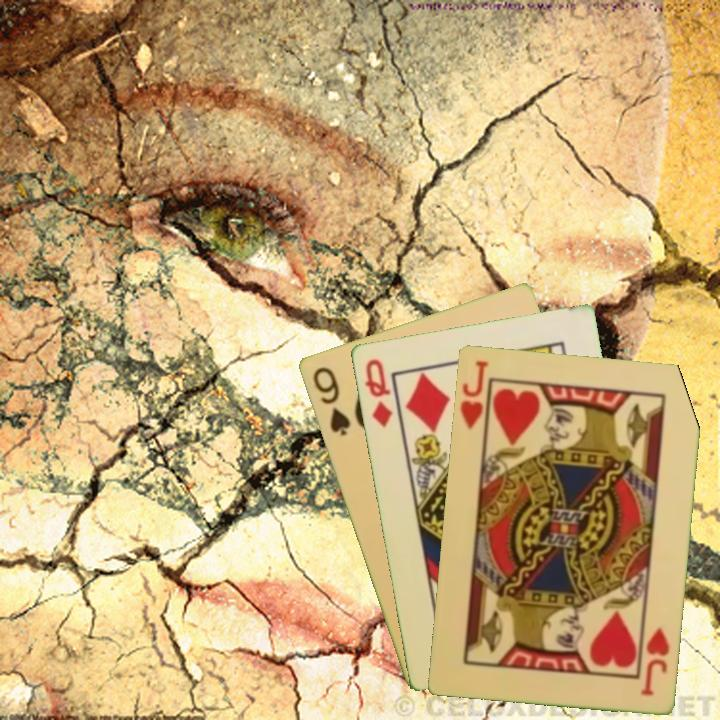9s: (308, 363, 353, 439)
Jh: (456, 356, 494, 440), (636, 623, 672, 698)
Qd: (360, 355, 395, 430)
